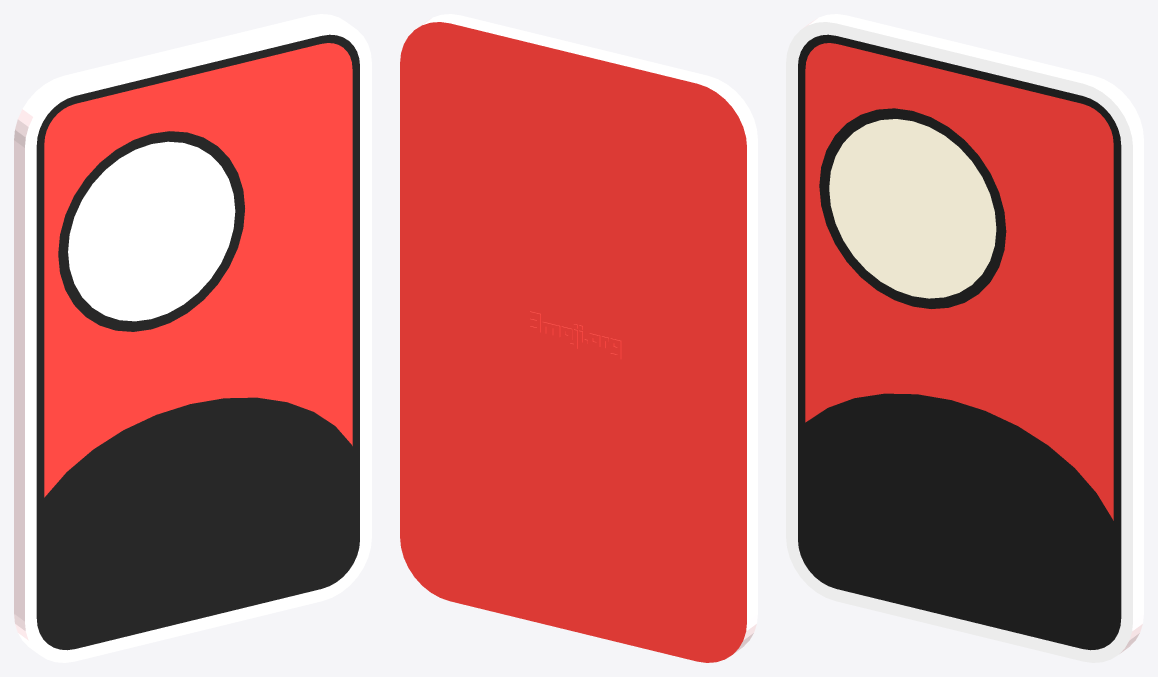
The model's file is flower_playing_cards.glb.
3 renders of one model, left to right at view 1: azimuth 30°, elevation 25°; view 2: azimuth 150°, elevation 25°; view 3: azimuth 330°, elevation 25°, orthographic.
Visible parts, largest first — view 1: Plane.319; view 2: Plane.319; view 3: Plane.319.
Part boxes in pixels (bbox=[...]): Plane.319: bbox=[14, 14, 371, 662]; Plane.319: bbox=[400, 14, 757, 662]; Plane.319: bbox=[786, 14, 1143, 662].
Bounding box in the file's own units: 1.48 × 2.36 × 0.0849.
Materials: 1 (1 with a texture image).
